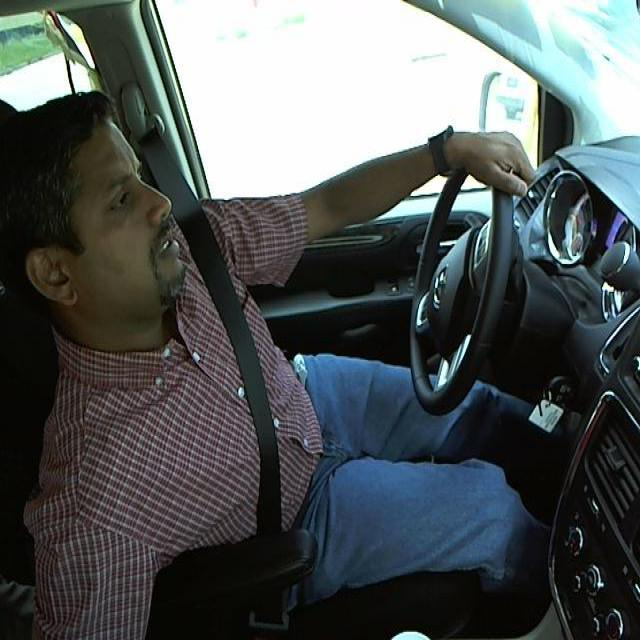seatbelt: (198, 268, 290, 520)
